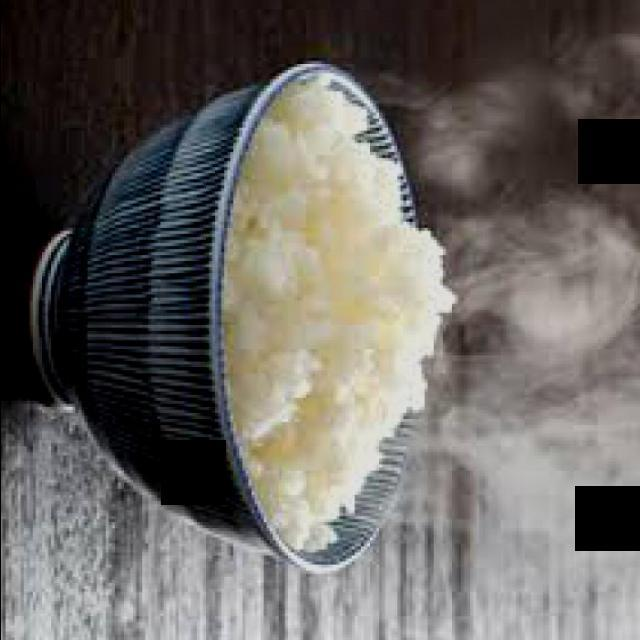rice: (221, 81, 455, 551)
